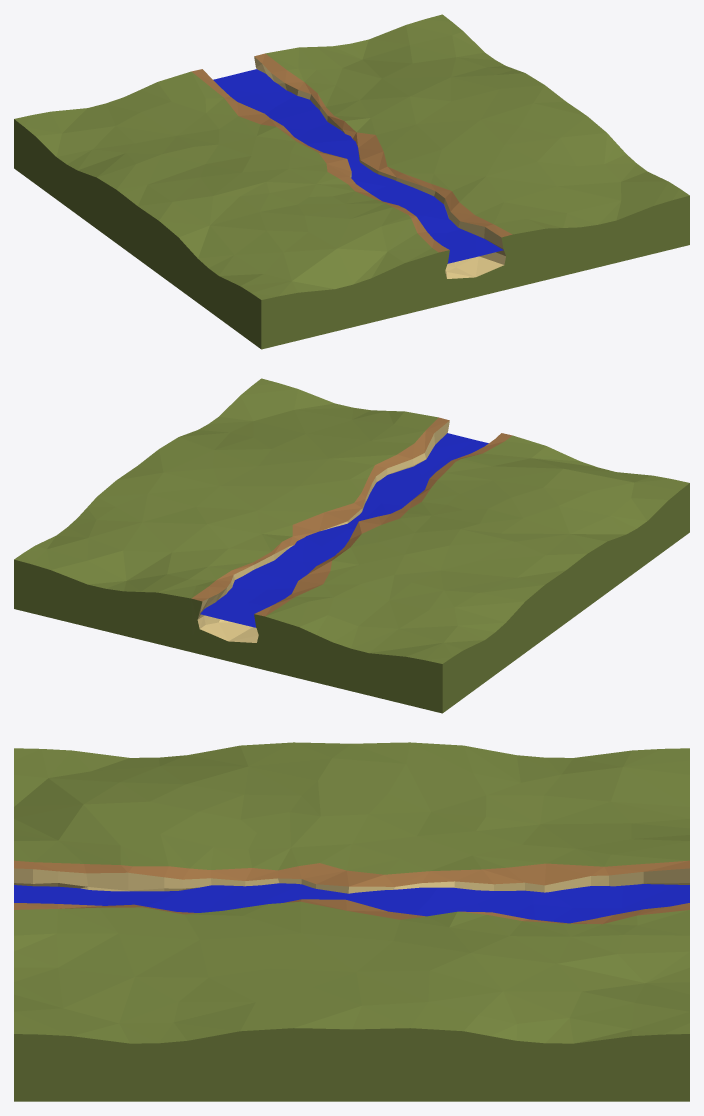
File: Terrian_River_Straight_Flat-01.fbx
3 renders of one model, top to bottom at view 1: azimuth 30°, elevation 25°; view 2: azimuth 150°, elevation 25°; view 3: azimuth 270°, elevation 25°, orthographic. The views are drawn at different scales.
Parts seen in each view (by area): view 1: Terrian_River_Straight_Flat-01; view 2: Terrian_River_Straight_Flat-01; view 3: Terrian_River_Straight_Flat-01.
Part boxes in pixels (box(x1,y1,x2,y2)): Terrian_River_Straight_Flat-01: box(14, 14, 689, 349); Terrian_River_Straight_Flat-01: box(14, 378, 689, 713); Terrian_River_Straight_Flat-01: box(14, 742, 689, 1101).
Bounding box in the file's own units: 3600 × 463 × 3600.
